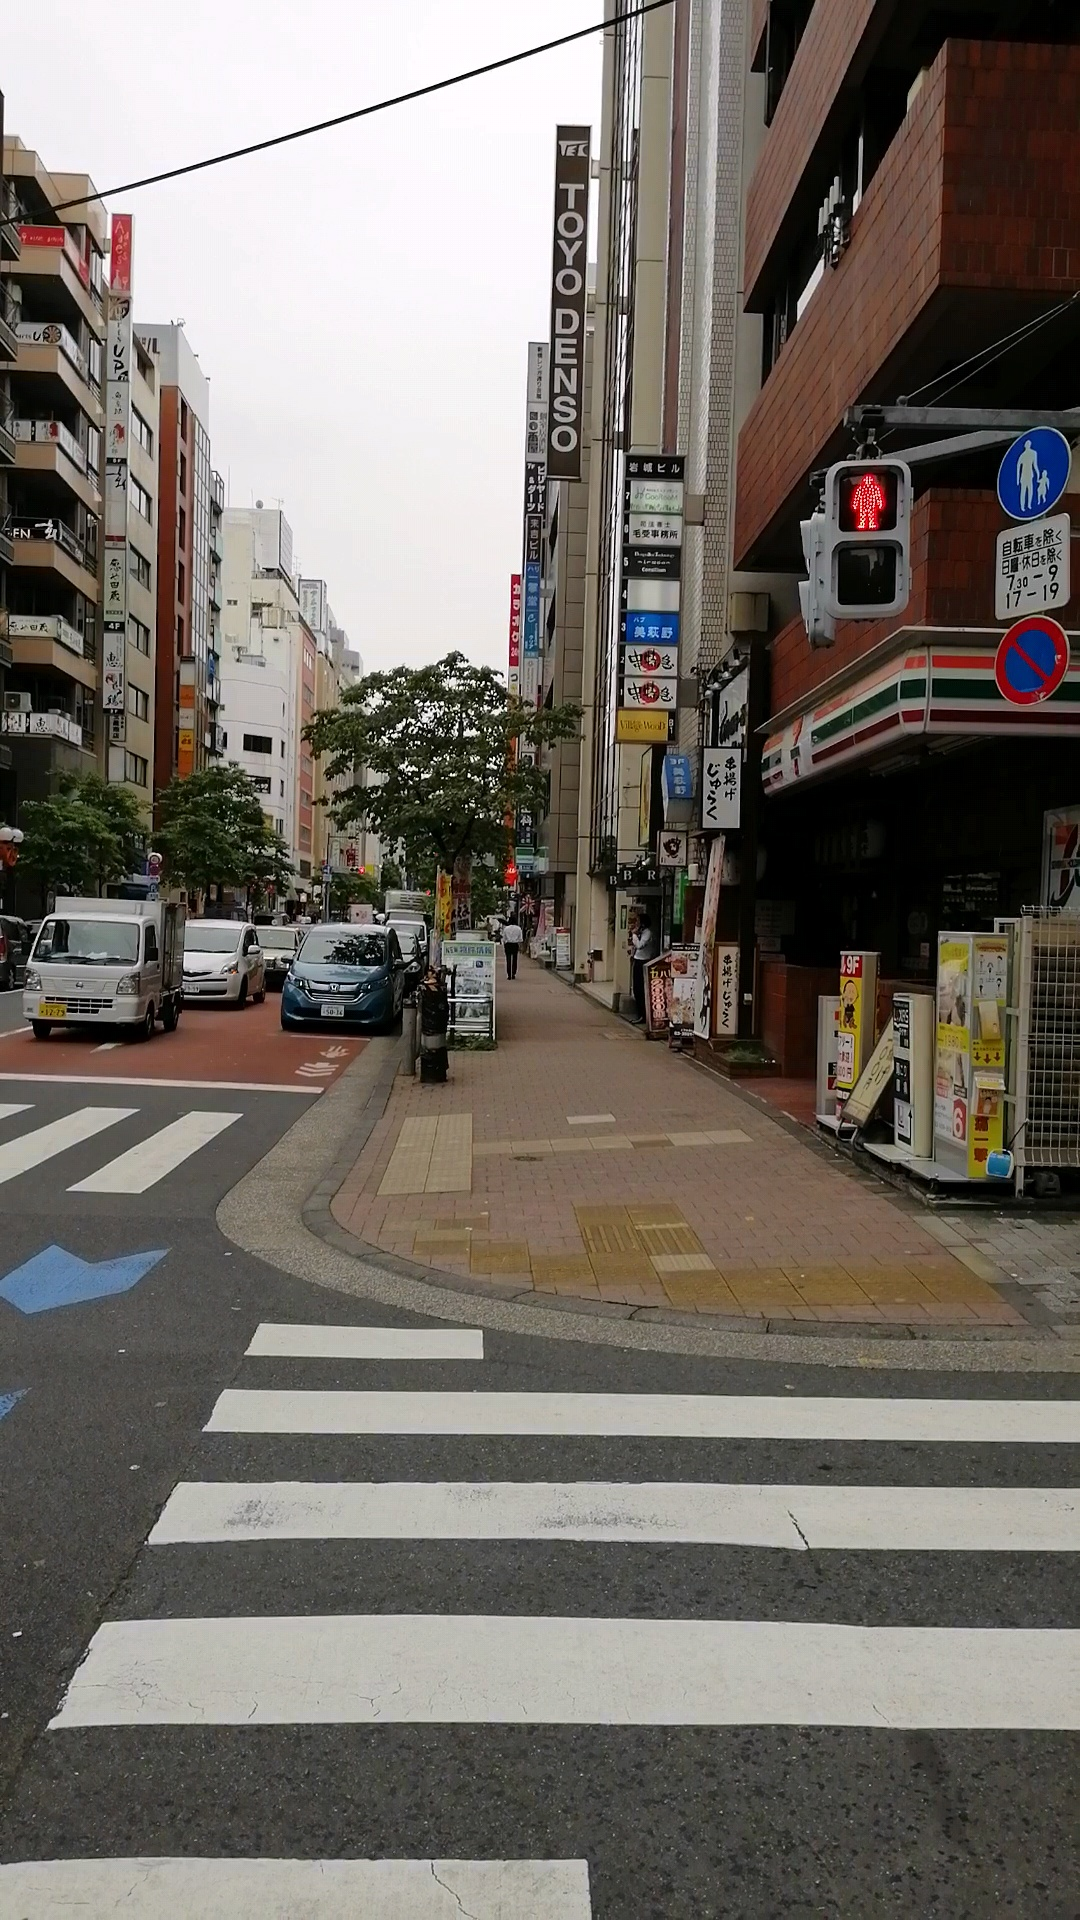red: (822, 458, 913, 615)
